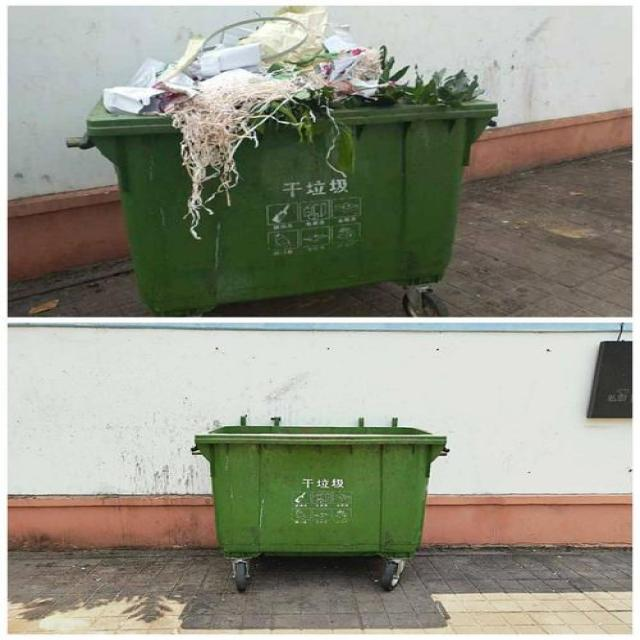garbage_bin: (188, 414, 447, 556)
overflow: (64, 6, 498, 313)
